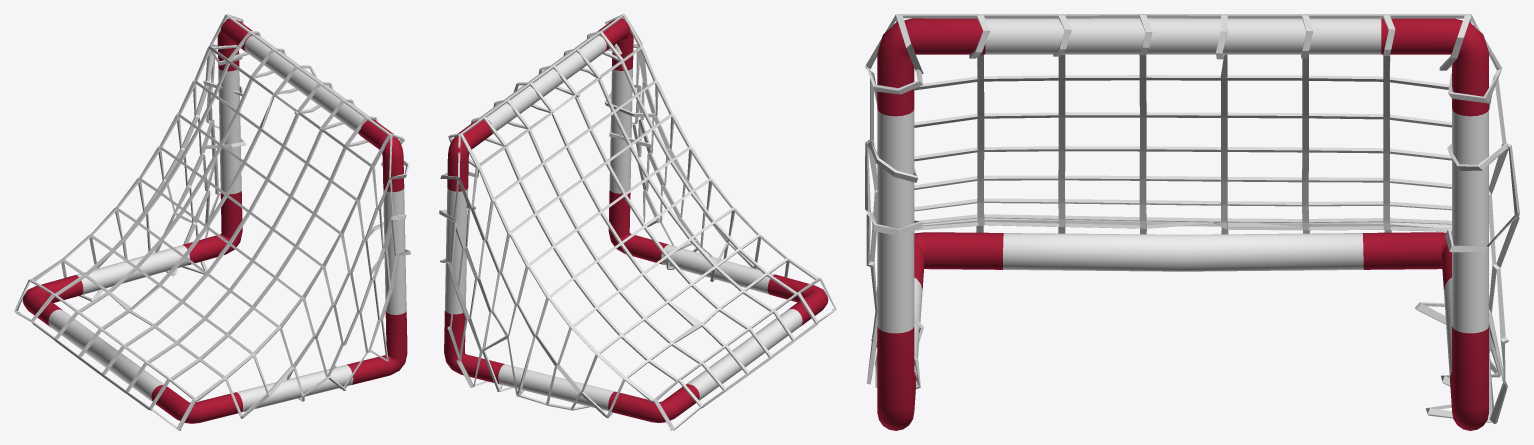
Rendered from goal.fbx.
3 renders of one model, left to right at view 1: azimuth 30°, elevation 25°; view 2: azimuth 150°, elevation 25°; view 3: azimuth 270°, elevation 25°, orthographic. The views are drawn at different scales.
Visible parts, largest first — view 1: Net, Tube; view 2: Net, Tube; view 3: Tube, Net.
Part boxes in pixels (bbox=[...]): Net: bbox=[14, 14, 410, 430]; Tube: bbox=[22, 18, 407, 423]; Net: bbox=[439, 14, 836, 430]; Tube: bbox=[444, 18, 828, 422]; Tube: bbox=[877, 18, 1488, 430]; Net: bbox=[865, 14, 1519, 423].
Size of the model in its own units: 426 by 422 by 583.
